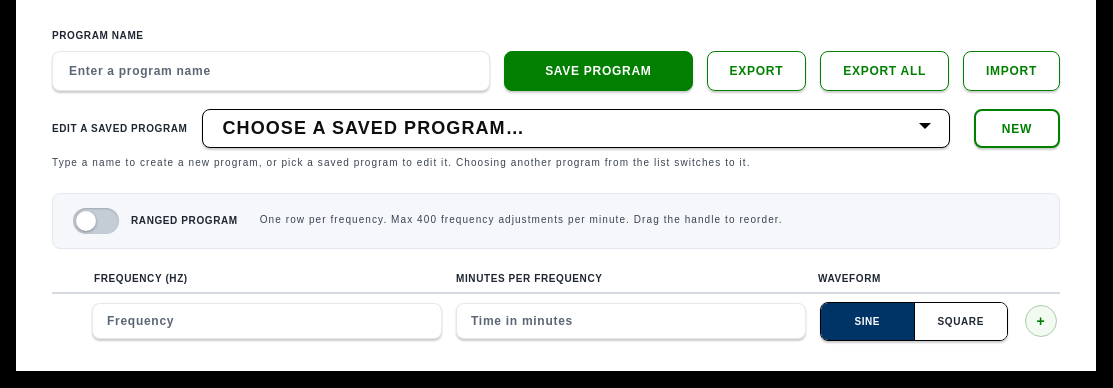
ProgramEditor › loads a saved program from the dropdown and can switch to a different one
Note: Load the first…
Select "zzAlpha" in the dropdown. click: (576, 128)
box: [202,109,950,148]
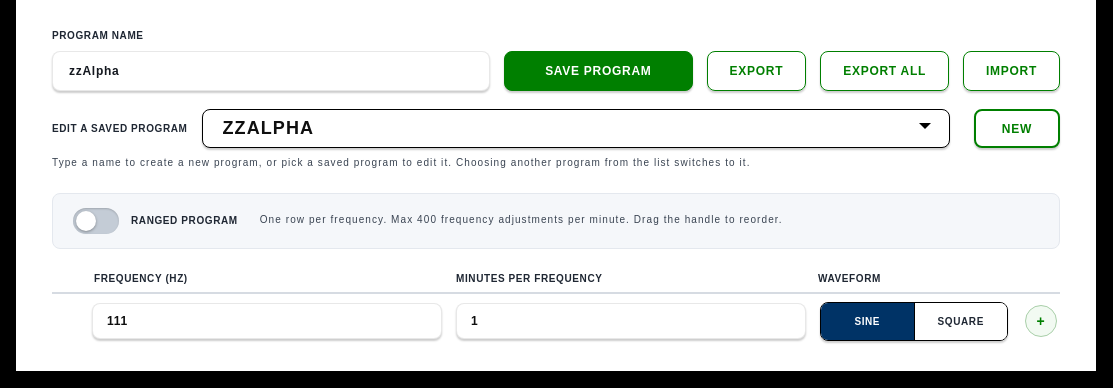
Now the field with placeholder "Enter a program name" holds "zzAlpha", box [52,51,490,91]
Note: …then switch to the second without leaving the page.
Select "zzBeta" in the dropdown. click: (576, 128)
box: [202,109,950,148]
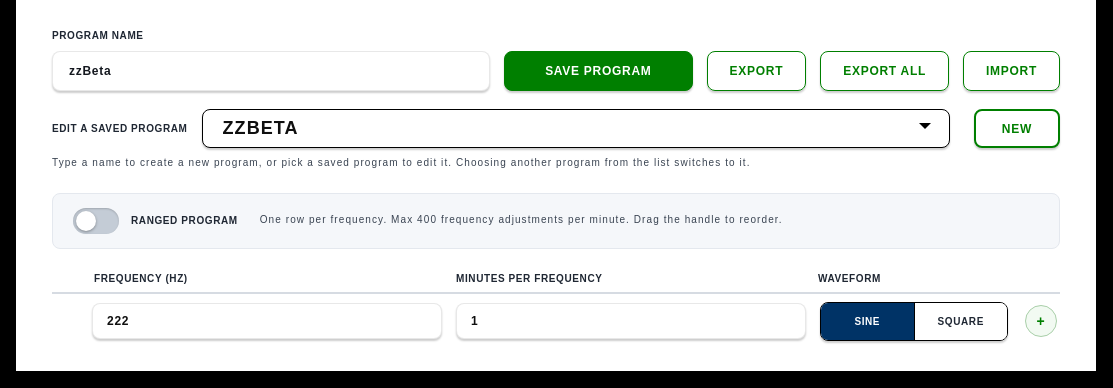
Now the field with placeholder "Enter a program name" holds "zzBeta", box [52,51,490,91]
